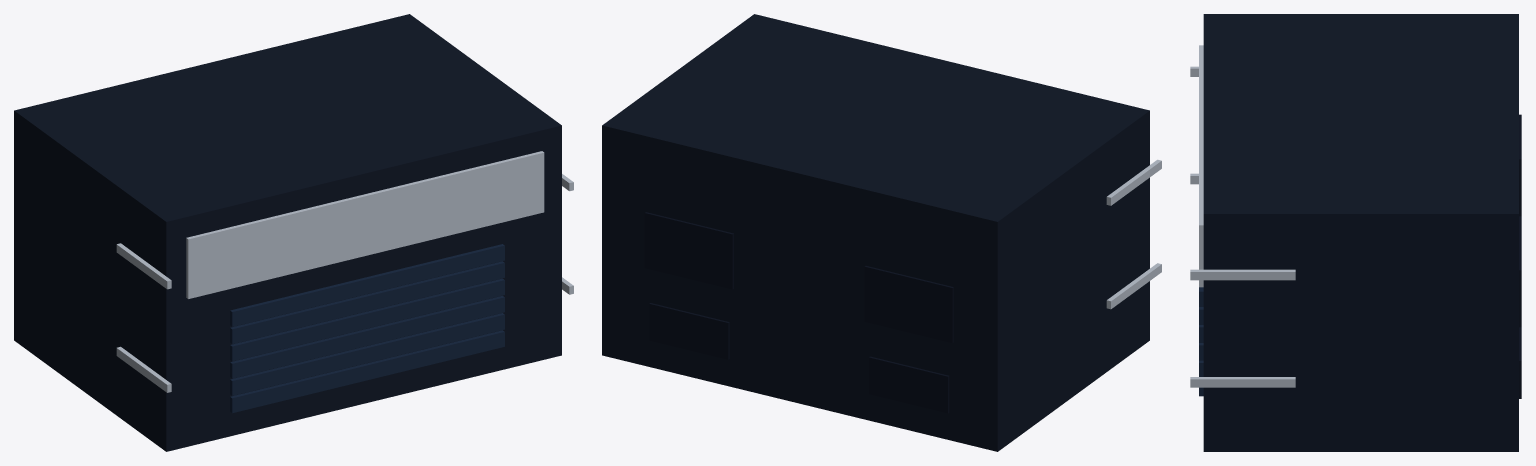
Rendered from storage_unit_v01.glb.
3 views of the same model, side by side, from view 1: azimuth 30°, elevation 25°; view 2: azimuth 150°, elevation 25°; view 3: azimuth 270°, elevation 25° (orthographic). The views are drawn at different scales.
Parts seen in each view (by area): view 1: chassis, drive_bays, bezel_slats, handles; view 2: chassis, rear_controllers, handles; view 3: chassis, handles, bezel_slats, rear_controllers, drive_bays.
Part boxes in pixels (left/top/right/bottom): chassis: left=14, top=14, right=561, bottom=451; drive_bays: left=230, top=244, right=504, bottom=413; bezel_slats: left=186, top=151, right=544, bottom=298; handles: left=116, top=174, right=573, bottom=392; chassis: left=602, top=14, right=1149, bottom=451; rear_controllers: left=644, top=212, right=953, bottom=413; handles: left=1106, top=159, right=1161, bottom=309; chassis: left=1203, top=14, right=1518, bottom=451; handles: left=1190, top=66, right=1295, bottom=387; bezel_slats: left=1199, top=45, right=1203, bottom=287; rear_controllers: left=1519, top=114, right=1521, bottom=398; drive_bays: left=1199, top=287, right=1203, bottom=396.
Bounding box in the file's own units: 1.85 × 1 × 1.26.
